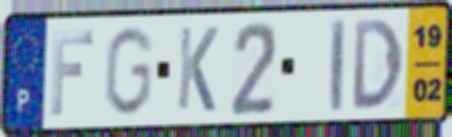2: (230, 18, 282, 119)
D: (351, 16, 406, 113)
F: (48, 28, 96, 118)
G: (101, 24, 157, 120)
I: (329, 16, 347, 116)
K: (175, 23, 221, 115)
